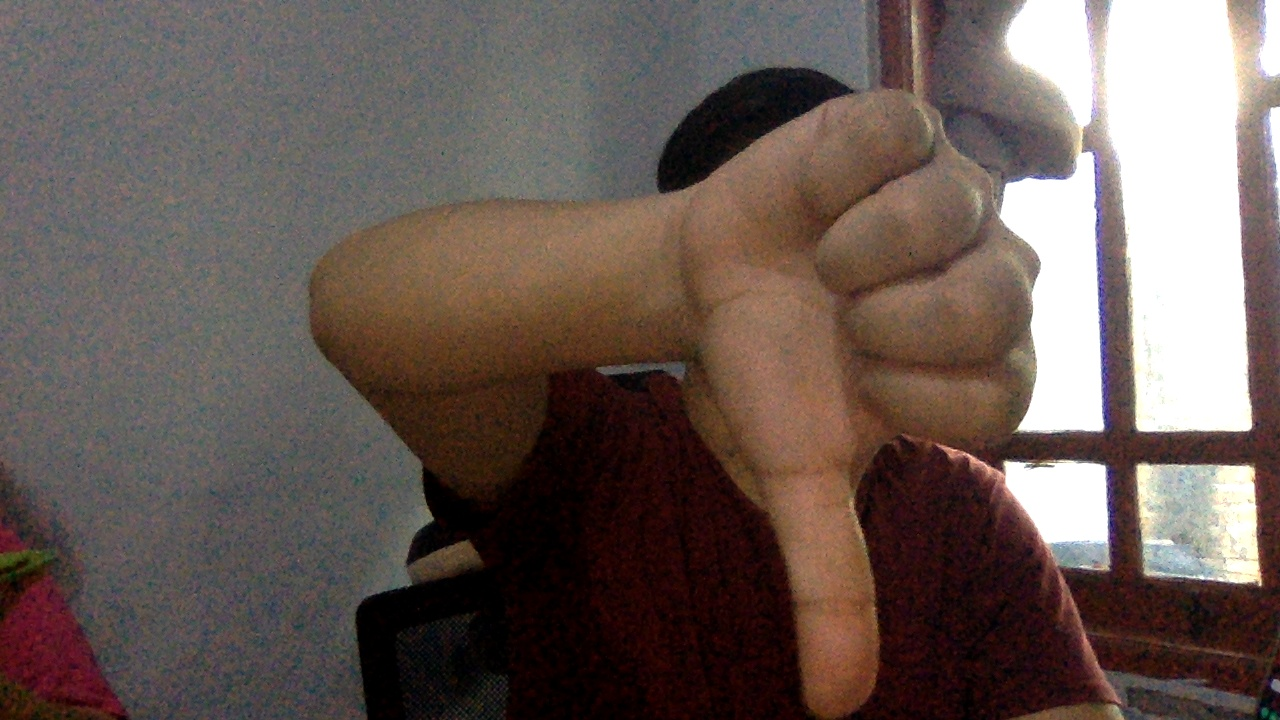thumbsdown: (663, 59, 1067, 720)
